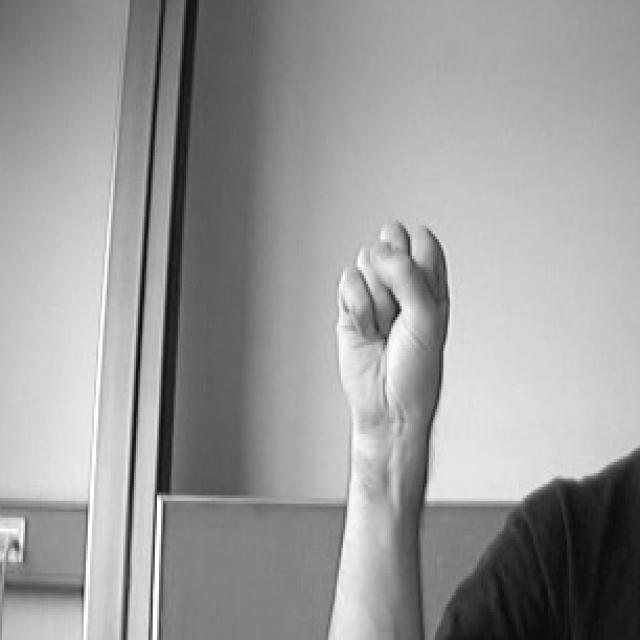S: (293, 180, 503, 486)
